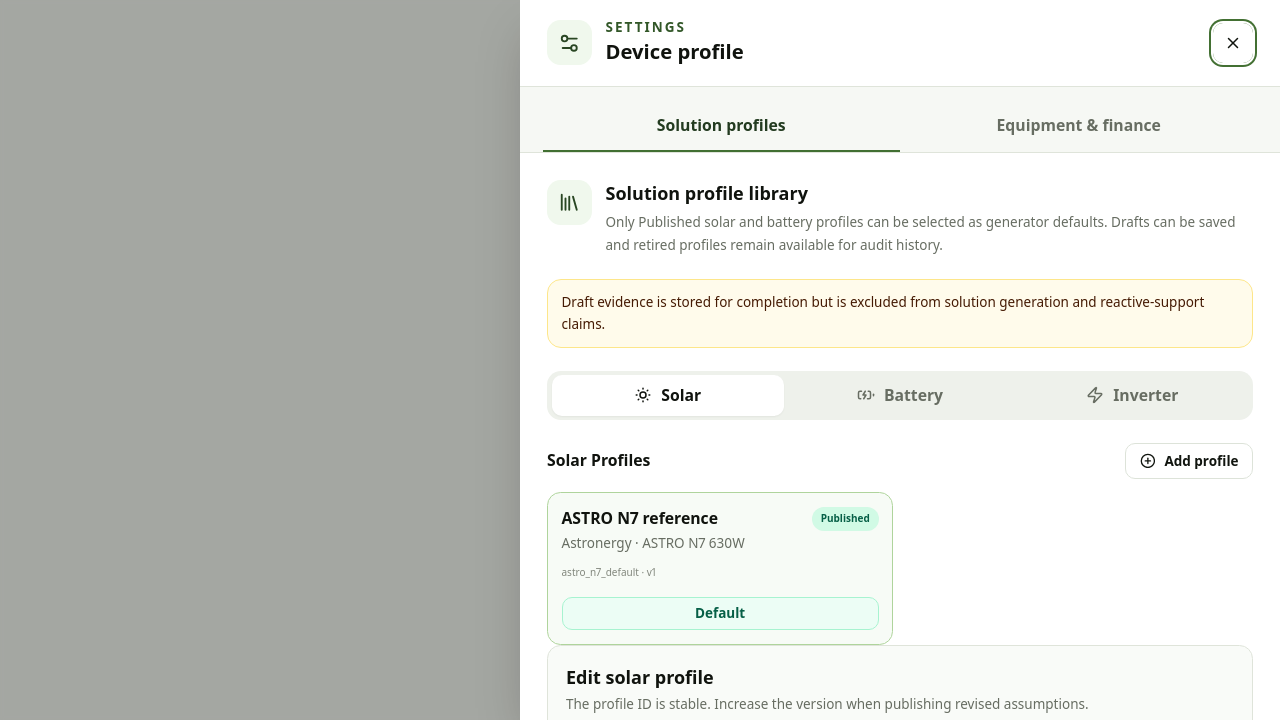
Test: CiSettingsPanel solution profile library › keeps equipment pricing and finance in a separate settings section
Expected: the heading "Solution profile library" is shown, x1=606 y1=180 x2=808 y2=204
Step 1. Click the tab "Equipment & finance" → (1079, 126), box x1=900 y1=100 x2=1258 y2=152
(page scrolled)
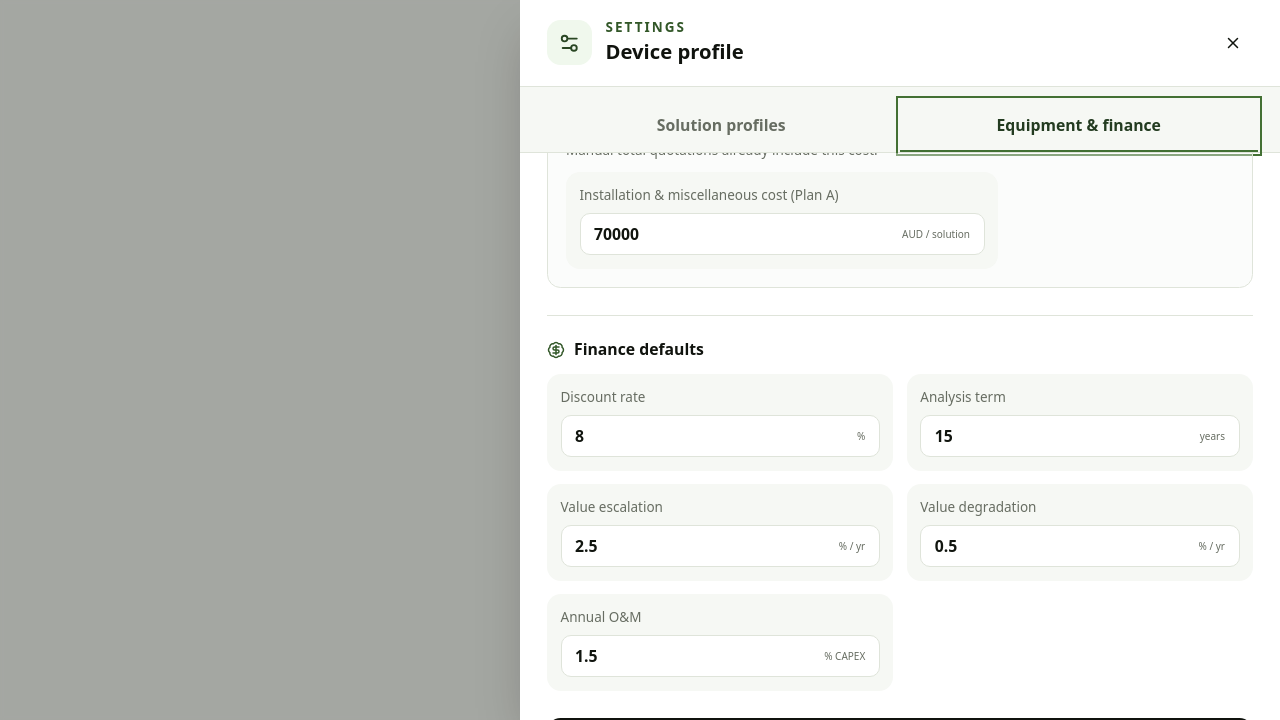
Result: the number field labelled "Discount rate" holds "8" at x1=575 y1=425 x2=848 y2=447
Step 2. Replace the text in the number field labelled "Analysis term" with "51" → (1063, 436), box x1=935 y1=425 x2=1191 y2=447
(page scrolled)
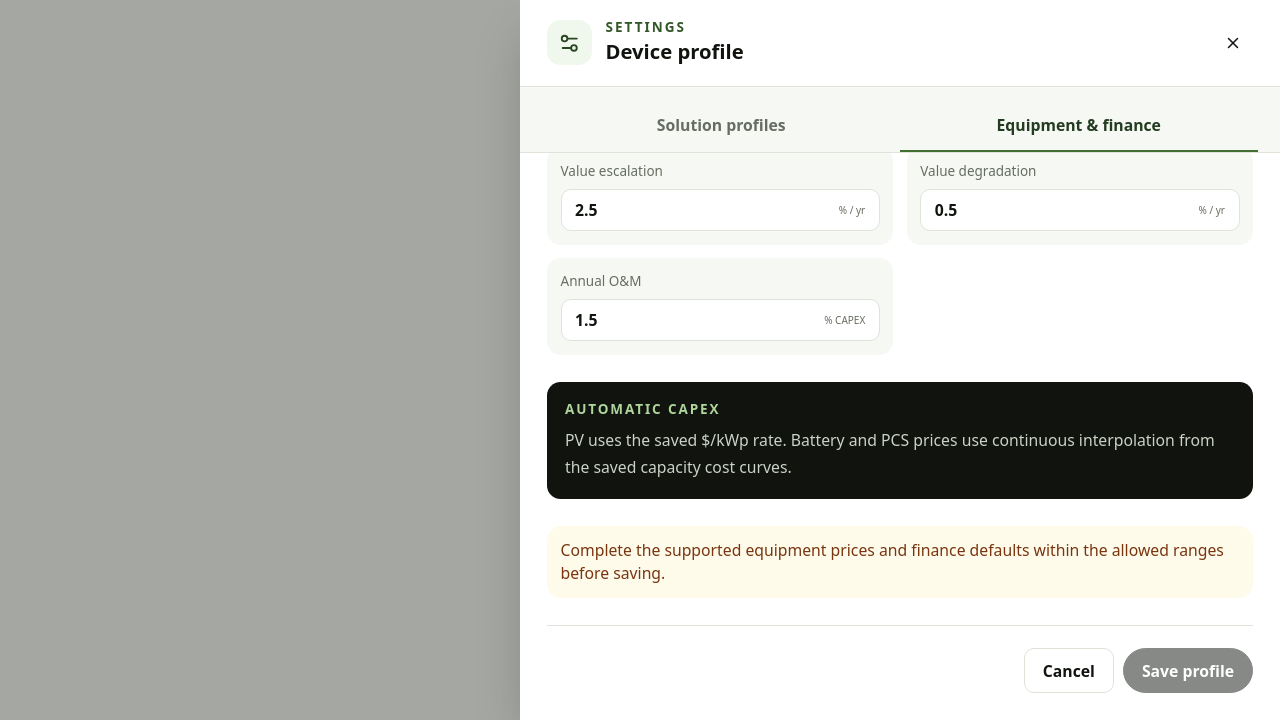
Result: the text "within the allowed ranges" is shown at x1=560 y1=539 x2=1224 y2=584
Result: the button "Save profile" is disabled at x1=1123 y1=648 x2=1253 y2=693
